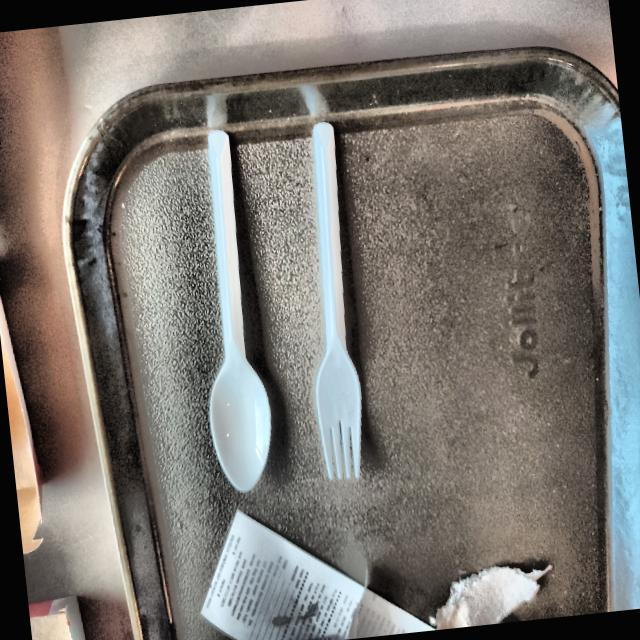plastic utensil: (208, 130, 271, 491), (312, 122, 361, 479)
